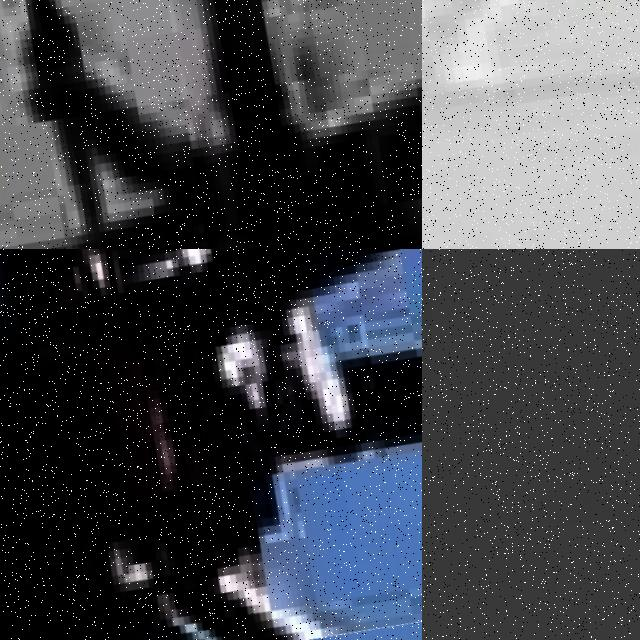drone: (0, 249, 422, 640), (0, 0, 422, 249), (422, 0, 640, 249)
